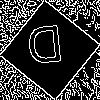D: (25, 25, 66, 74)
